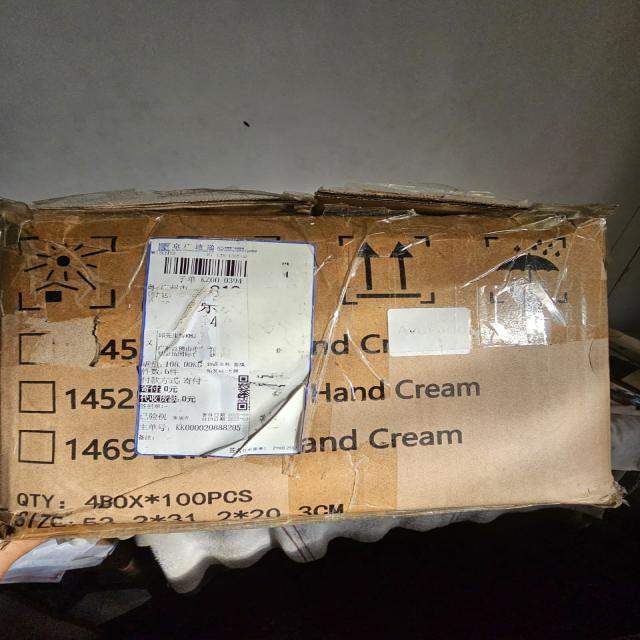carton_box: (0, 188, 625, 535)
export_mark_label: (127, 230, 324, 465)
keep_dry_label: (472, 218, 577, 314)
package_damage: (0, 188, 617, 239)
protect_from_heat_label: (7, 215, 140, 324)
this_side_up_label: (333, 226, 451, 315)
